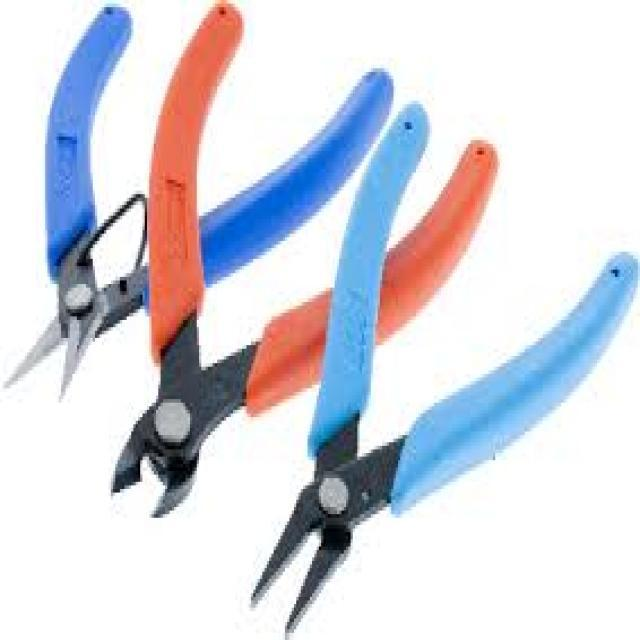pliers: (249, 115, 640, 640), (103, 16, 489, 528), (12, 2, 378, 402)
